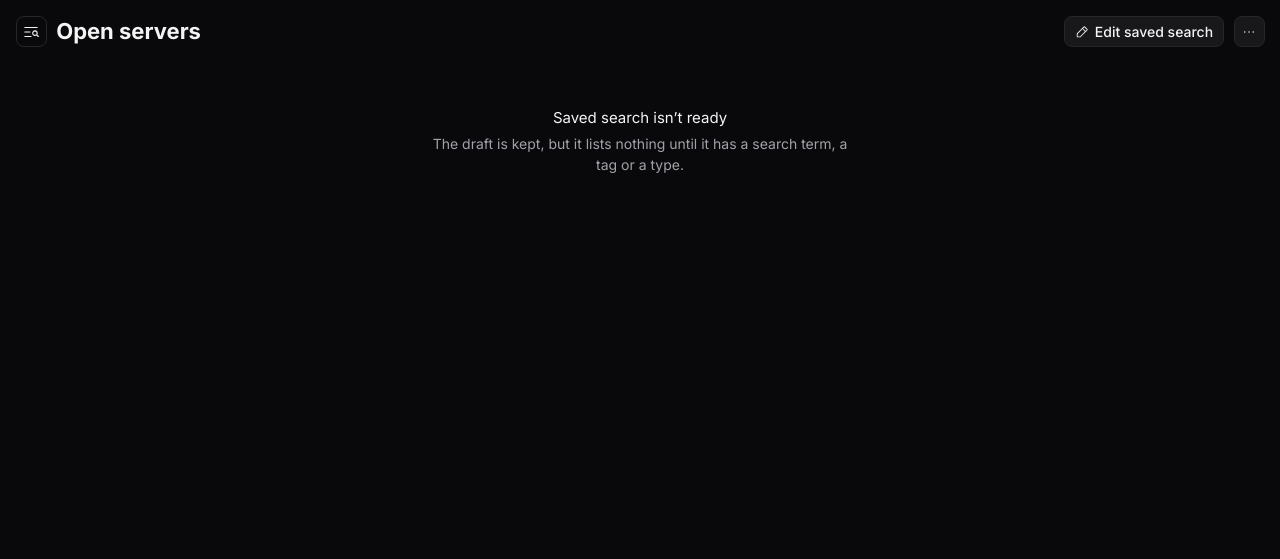
it: QueryPage › test excludeTags and excluded types ignored without search or tag; hints shown
Click the button "Edit saved search". click: coordinates (1144, 32)
box: 1064,16 -> 1224,47
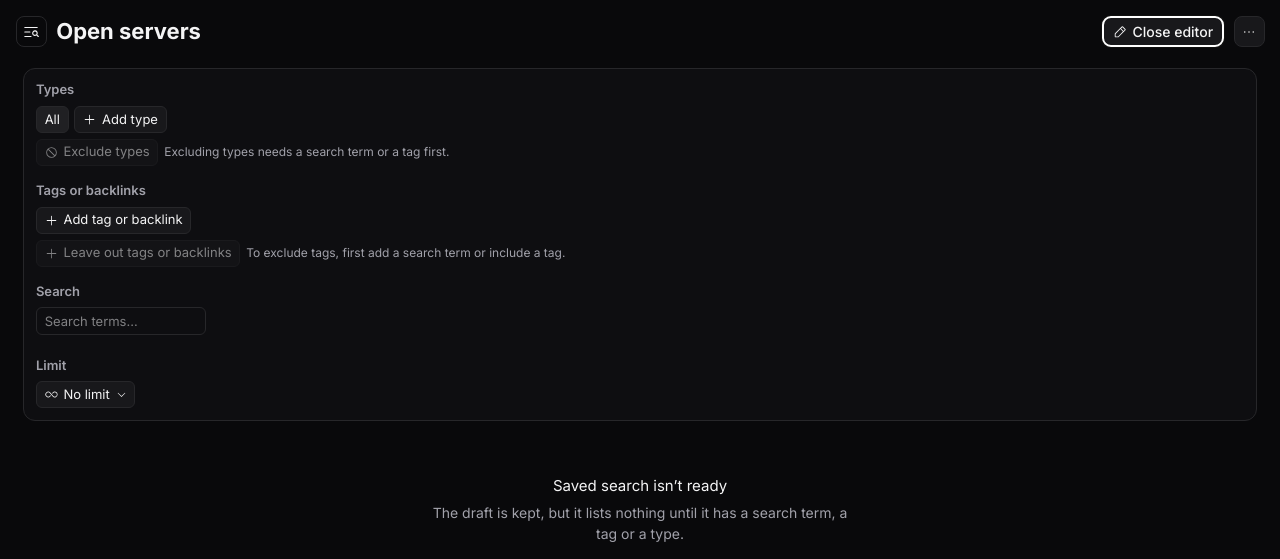
Now the text "To exclude tags, first add a search term or include a tag." is shown, box 246,244 -> 565,262
Now the text "Excluding types needs a search term or a tag first." is shown, box 164,143 -> 449,161
Now the button "Leave out tags or backlinks" is disabled, box 36,240 -> 240,267
